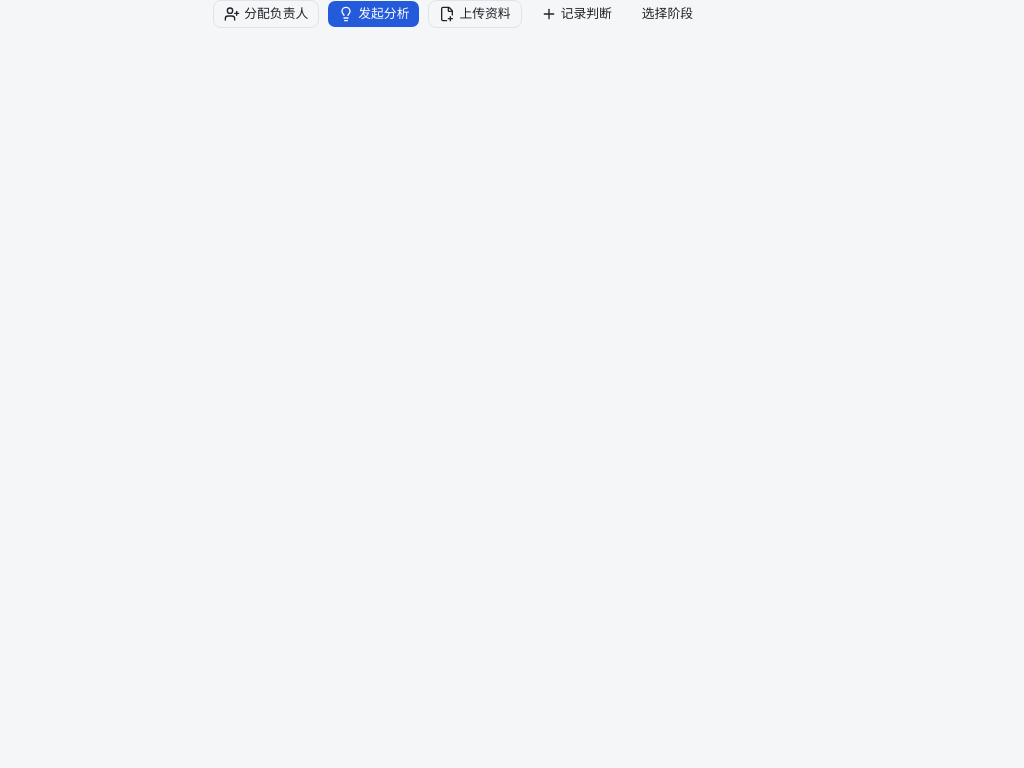
Scenario: project workflow actions › keeps known tracks on an unmeasured profile and the legacy empty-track presentation
Click the button "分配负责人": [266, 14] box [213,0,319,28]
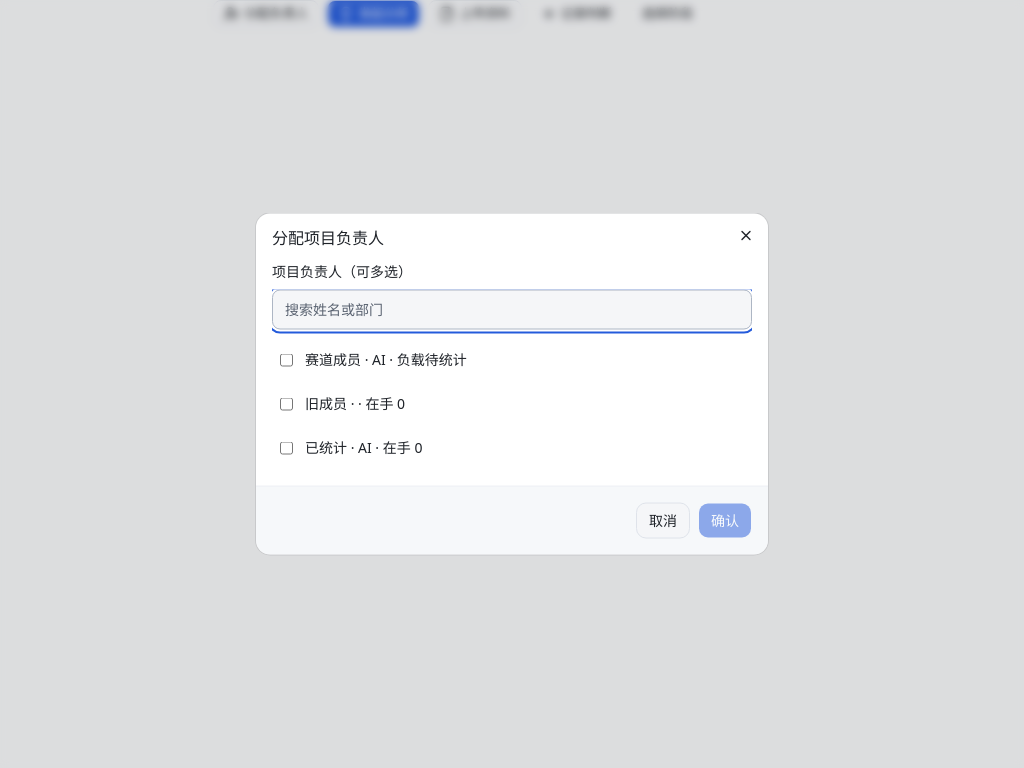
Now the checkbox labelled "赛道成员 · AI · 负载待统计" is shown, box [280,353,293,366]
Now the checkbox labelled "旧成员 · · 在手 0" is shown, box [280,397,293,410]
Now the checkbox labelled "已统计 · AI · 在手 0" is shown, box [280,441,293,454]
